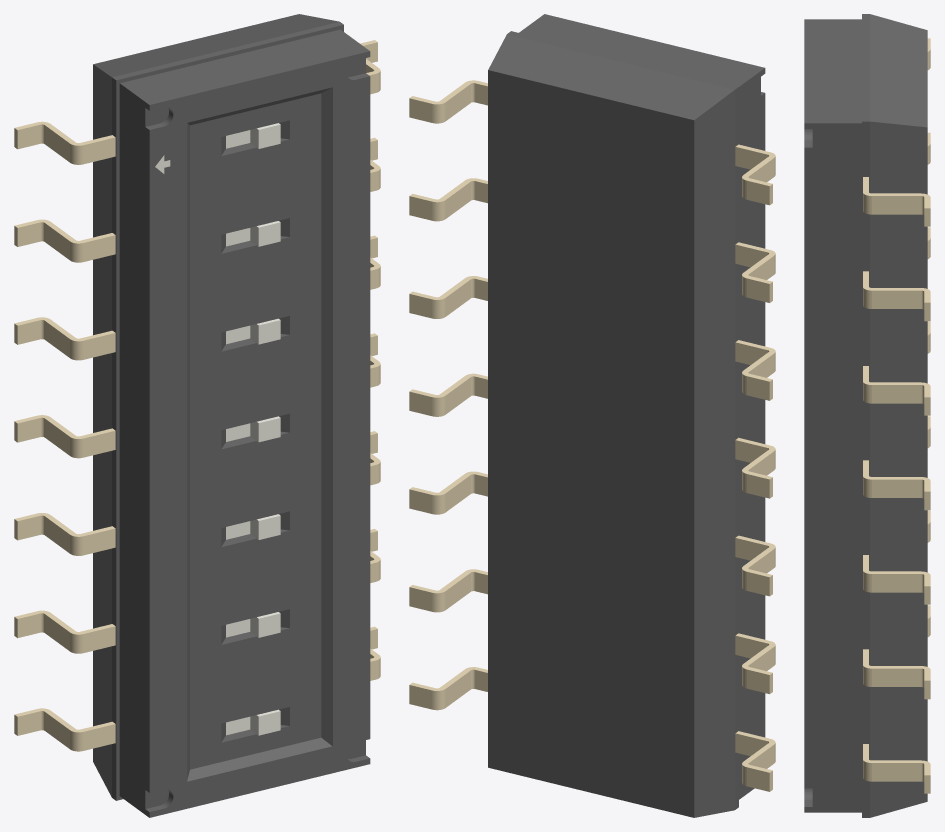
Rendered from SW_DIP_SPSTx07_Slide_Omron_A6S-710x_W8.9mm_P2.54mm.glb.
The picture shows the model from 3 angles, left to right: view 1: azimuth 30°, elevation 25°; view 2: azimuth 150°, elevation 25°; view 3: azimuth 270°, elevation 25°; orthographic projection. The views are drawn at different scales.
Visible parts, largest first — view 1: Shape_IndexedFaceSet.225, Shape_IndexedFaceSet.135, Shape_IndexedFaceSet.142, Shape_IndexedFaceSet.005, Shape_IndexedFaceSet.222, Shape_IndexedFaceSet.133, Shape_IndexedFaceSet.002, Shape_IndexedFaceSet.037, Shape_IndexedFaceSet.104, Shape_IndexedFaceSet.223, Shape_IndexedFaceSet.224, Shape_IndexedFaceSet.006 (+2 smaller); view 2: Shape_IndexedFaceSet.001, Shape_IndexedFaceSet.005, Shape_IndexedFaceSet.142, Shape_IndexedFaceSet.002, Shape_IndexedFaceSet.133, Shape_IndexedFaceSet.037, Shape_IndexedFaceSet.006; view 3: Shape_IndexedFaceSet.040, Shape_IndexedFaceSet, Shape_IndexedFaceSet.133, Shape_IndexedFaceSet.002, Shape_IndexedFaceSet.003, Shape_IndexedFaceSet.045, Shape_IndexedFaceSet.063, Shape_IndexedFaceSet.072, Shape_IndexedFaceSet.090, Shape_IndexedFaceSet.054, Shape_IndexedFaceSet.081, Shape_IndexedFaceSet.099 (+8 smaller).
Boxes of the visible parts, left/top/right/bottom form: Shape_IndexedFaceSet.225: left=190, top=93, right=321, bottom=769; Shape_IndexedFaceSet.135: left=149, top=51, right=370, bottom=817; Shape_IndexedFaceSet.142: left=119, top=83, right=149, bottom=817; Shape_IndexedFaceSet.005: left=93, top=64, right=111, bottom=797; Shape_IndexedFaceSet.222: left=321, top=87, right=332, bottom=745; Shape_IndexedFaceSet.133: left=120, top=29, right=369, bottom=104; Shape_IndexedFaceSet.002: left=93, top=14, right=338, bottom=77; Shape_IndexedFaceSet.037: left=112, top=77, right=116, bottom=800; Shape_IndexedFaceSet.104: left=116, top=81, right=119, bottom=800; Shape_IndexedFaceSet.223: left=187, top=123, right=189, bottom=779; Shape_IndexedFaceSet.224: left=187, top=737, right=331, bottom=781; Shape_IndexedFaceSet.006: left=112, top=21, right=343, bottom=80; Shape_IndexedFaceSet.001: left=488, top=70, right=694, bottom=817; Shape_IndexedFaceSet.005: left=694, top=90, right=734, bottom=817; Shape_IndexedFaceSet.142: left=739, top=68, right=765, bottom=799; Shape_IndexedFaceSet.002: left=488, top=34, right=734, bottom=119; Shape_IndexedFaceSet.133: left=519, top=14, right=764, bottom=86; Shape_IndexedFaceSet.037: left=735, top=87, right=738, bottom=809; Shape_IndexedFaceSet.006: left=507, top=31, right=738, bottom=89; Shape_IndexedFaceSet.040: left=804, top=123, right=861, bottom=812; Shape_IndexedFaceSet: left=870, top=121, right=927, bottom=817; Shape_IndexedFaceSet.133: left=804, top=19, right=861, bottom=123; Shape_IndexedFaceSet.002: left=870, top=14, right=927, bottom=127; Shape_IndexedFaceSet.003: left=862, top=121, right=869, bottom=817; Shape_IndexedFaceSet.045: left=872, top=763, right=921, bottom=781; Shape_IndexedFaceSet.063: left=872, top=574, right=921, bottom=592; Shape_IndexedFaceSet.072: left=872, top=196, right=921, bottom=214; Shape_IndexedFaceSet.090: left=872, top=385, right=921, bottom=403; Shape_IndexedFaceSet.054: left=872, top=668, right=921, bottom=686; Shape_IndexedFaceSet.081: left=872, top=290, right=921, bottom=308; Shape_IndexedFaceSet.099: left=872, top=479, right=921, bottom=497.
Size of the model in its own units: 3.86 by 7.37 by 1.21.
